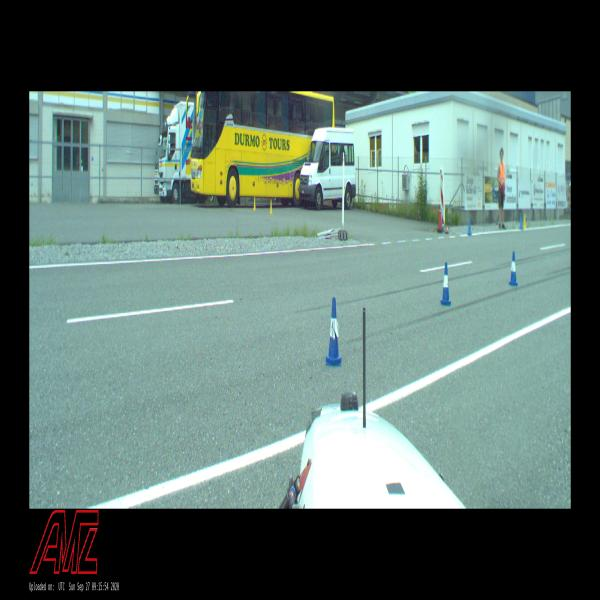blue_cone: (326, 298, 341, 367), (441, 262, 450, 306), (509, 251, 518, 286), (467, 215, 471, 235), (519, 212, 523, 230)
yellow_cone: (269, 199, 273, 214), (253, 196, 256, 210), (524, 214, 526, 228)
